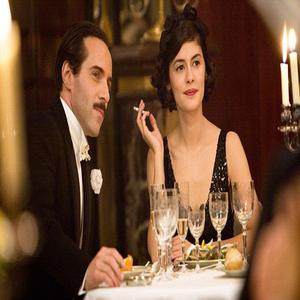cigarette: (131, 103, 154, 117)
